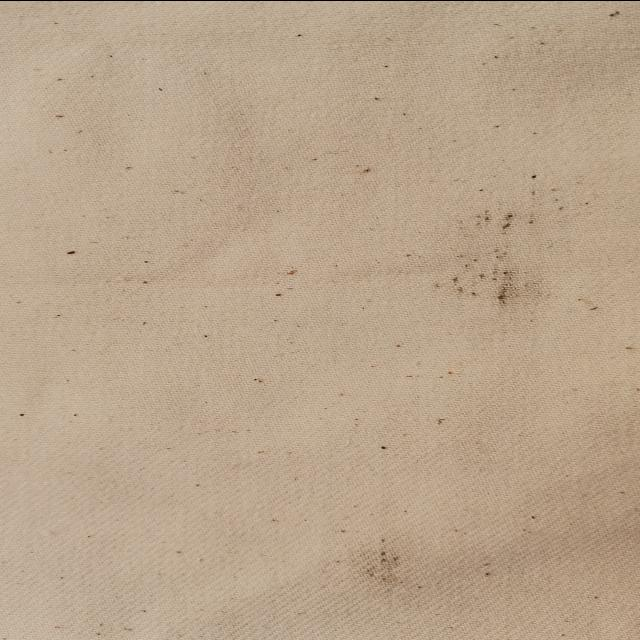taaaches: (410, 187, 572, 311), (322, 536, 432, 596)
